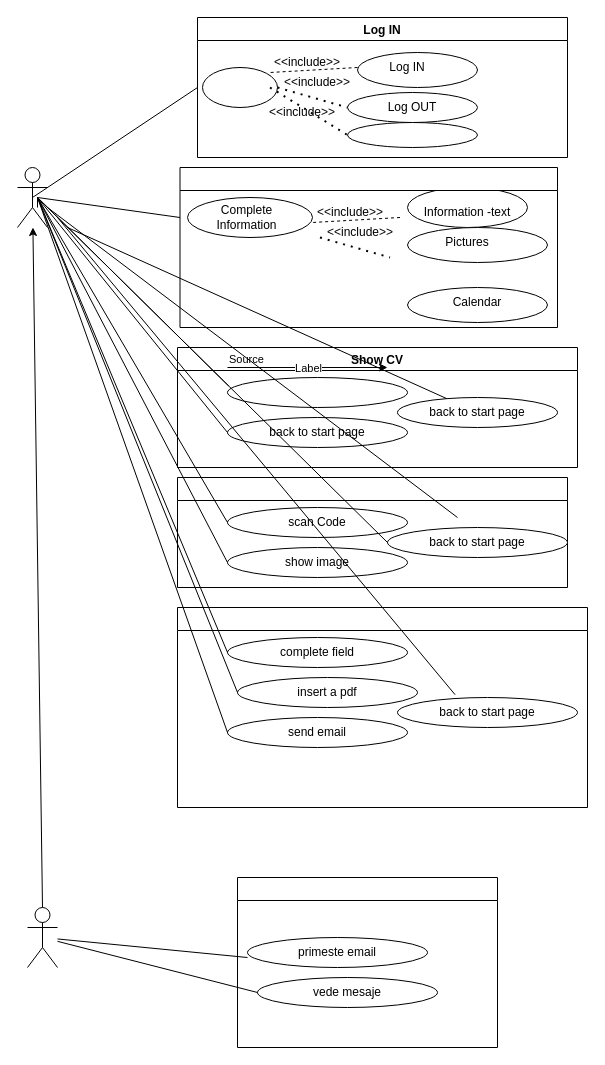
The diagram is 605 pixels wide and 1065 high, and some of its shapes have lost their labels. The shapes that lost their labels are listed below. From the top down, each one's box as (x1, y1, x2, y2) in pixels, then its label:
(202, 66, 278, 108): Log
(346, 122, 478, 148): New Account
(16, 166, 48, 228): user
(179, 166, 558, 328): Create CV
(226, 376, 408, 408): Show CV informations
(176, 476, 568, 588): QR code
(176, 606, 588, 808): QA
(26, 906, 58, 968): Admin
(236, 876, 498, 1048): Primire mail-uri
